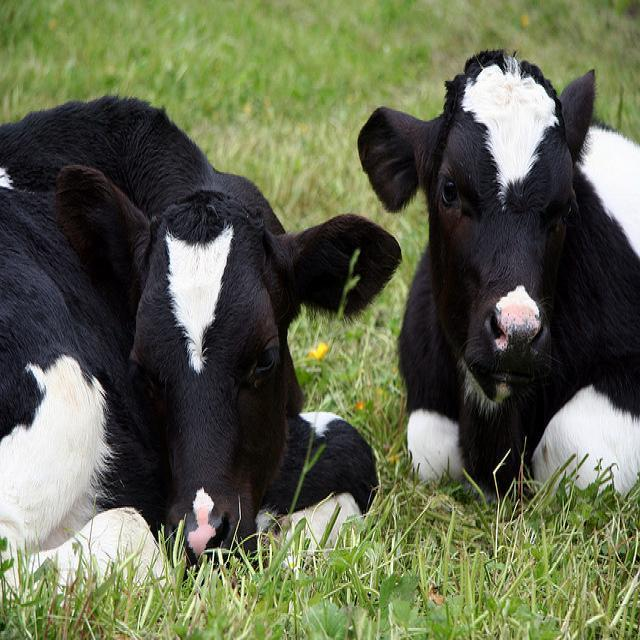cow: (0, 93, 404, 599), (358, 42, 639, 499)
